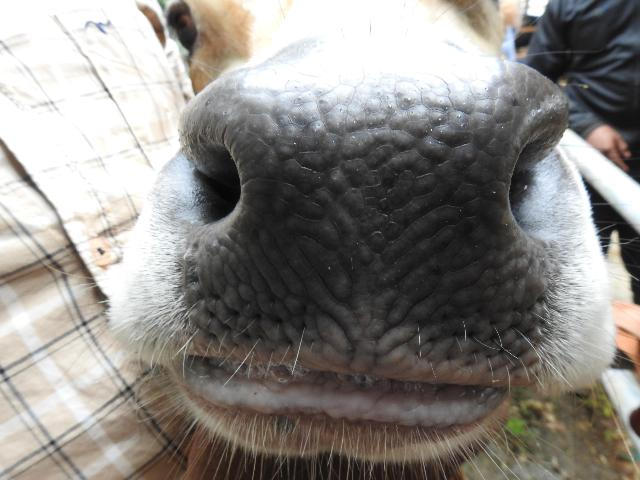Muzzle: (254, 82, 504, 380)
